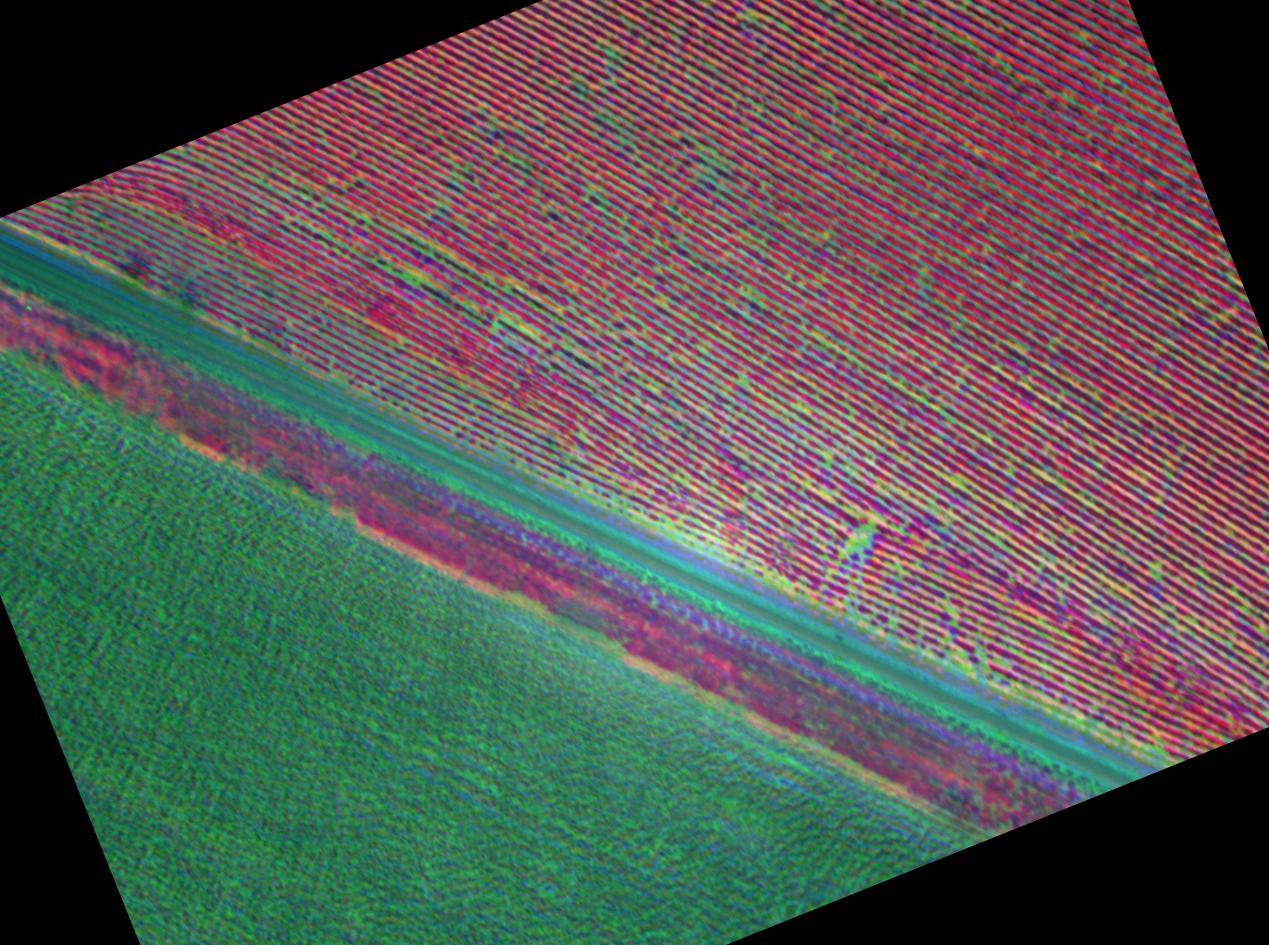dc: (403, 274, 408, 279), (827, 458, 831, 463), (609, 52, 613, 57), (1189, 618, 1194, 622), (494, 324, 498, 328), (578, 434, 582, 437), (586, 484, 589, 488), (668, 522, 671, 526)
